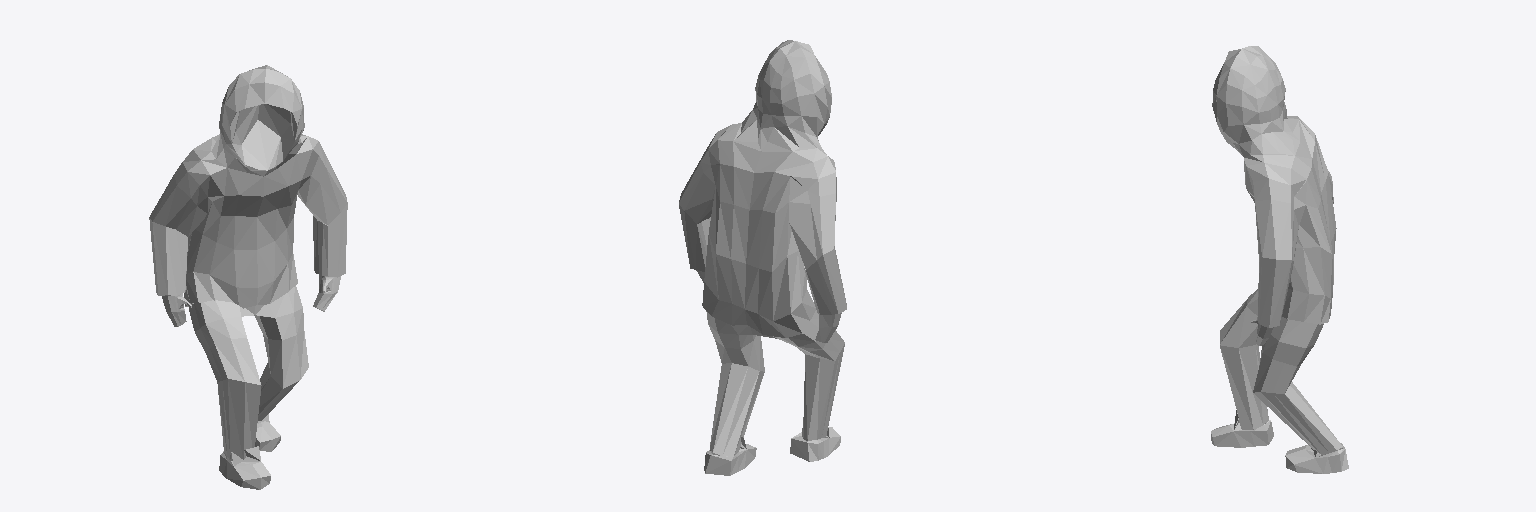
File: Shadowmanv_000024.obj
3 views of the same model, side by side, from view 1: azimuth 30°, elevation 25°; view 2: azimuth 150°, elevation 25°; view 3: azimuth 270°, elevation 25° (orthographic).
Visible parts, largest first — view 1: Cube.000; view 2: Cube.000; view 3: Cube.000.
Boxes of the visible parts, box(x1,y1,x2,y2) form: Cube.000: box(149, 65, 347, 489); Cube.000: box(679, 40, 846, 475); Cube.000: box(1211, 46, 1348, 473).
Size of the model in its own units: 5.01 by 11 by 3.39.